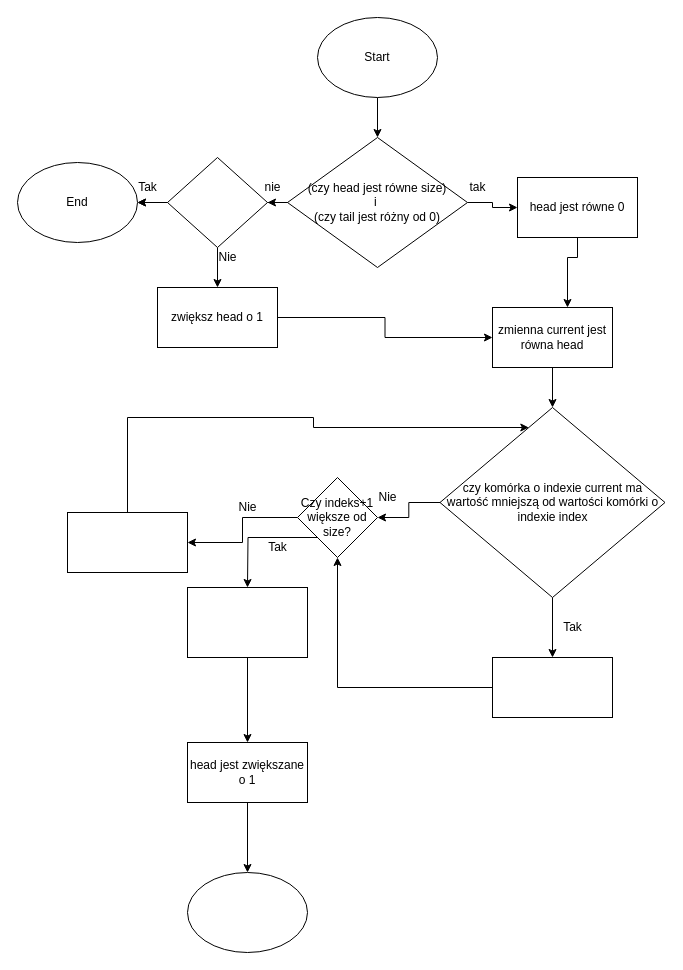
Image size: 683x970. Some labels were removed from this diagram. The shapes that lost their labels are listed below. From the top down, each one's centre as x and y in pixels, then its label:
At (217,202): "czy head jest równe tail".
At (127,542): "zwiększ index o 1".
At (247,622): "komórka o indeksie current przyjmuję wartość komórki o indeksie head".
At (552,687): "current jest równe index".
